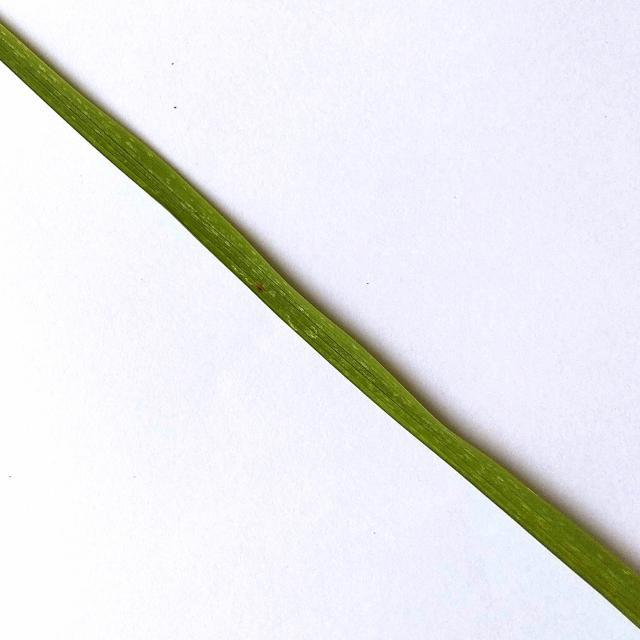brownspots: (248, 274, 278, 298)
